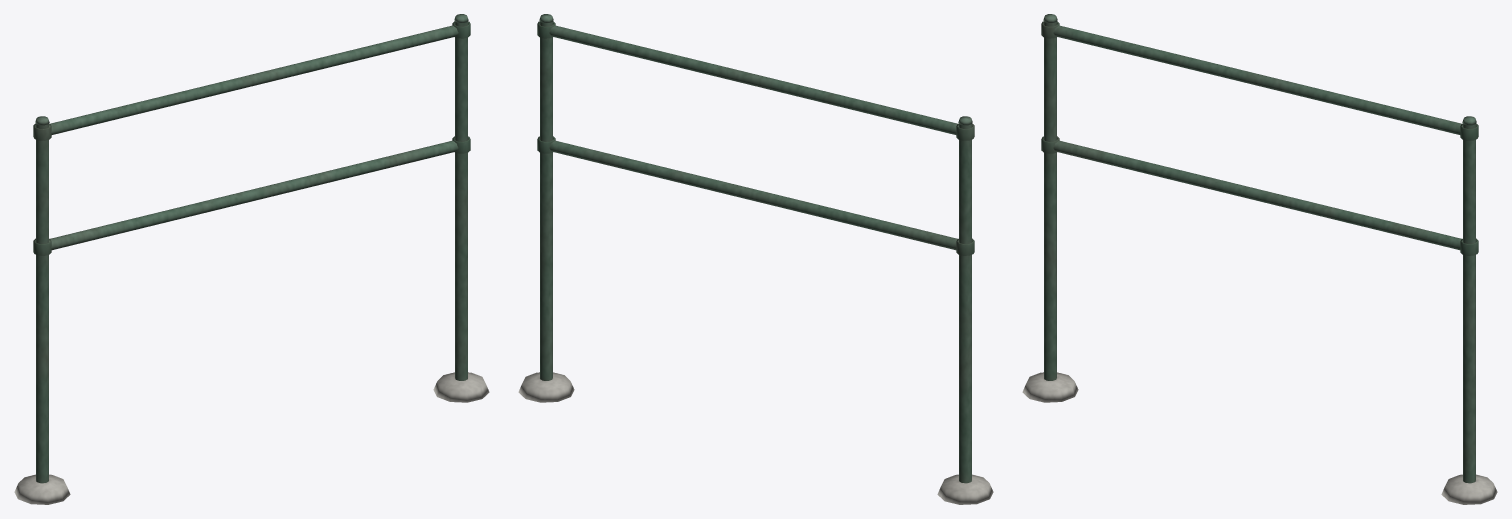
File: ul_trzepak.glb
3 views of the same model, side by side, from view 1: azimuth 30°, elevation 25°; view 2: azimuth 150°, elevation 25°; view 3: azimuth 330°, elevation 25° (orthographic).
Visible parts, largest first — view 1: Trzepak; view 2: Trzepak; view 3: Trzepak.
Part boxes in pixels (left/top/right/bottom): Trzepak: left=14, top=14, right=489, bottom=504; Trzepak: left=518, top=14, right=993, bottom=504; Trzepak: left=1022, top=14, right=1497, bottom=504.
Size of the model in its own units: 2.68 by 2.05 by 0.2663.
1 material, 1 textured.
